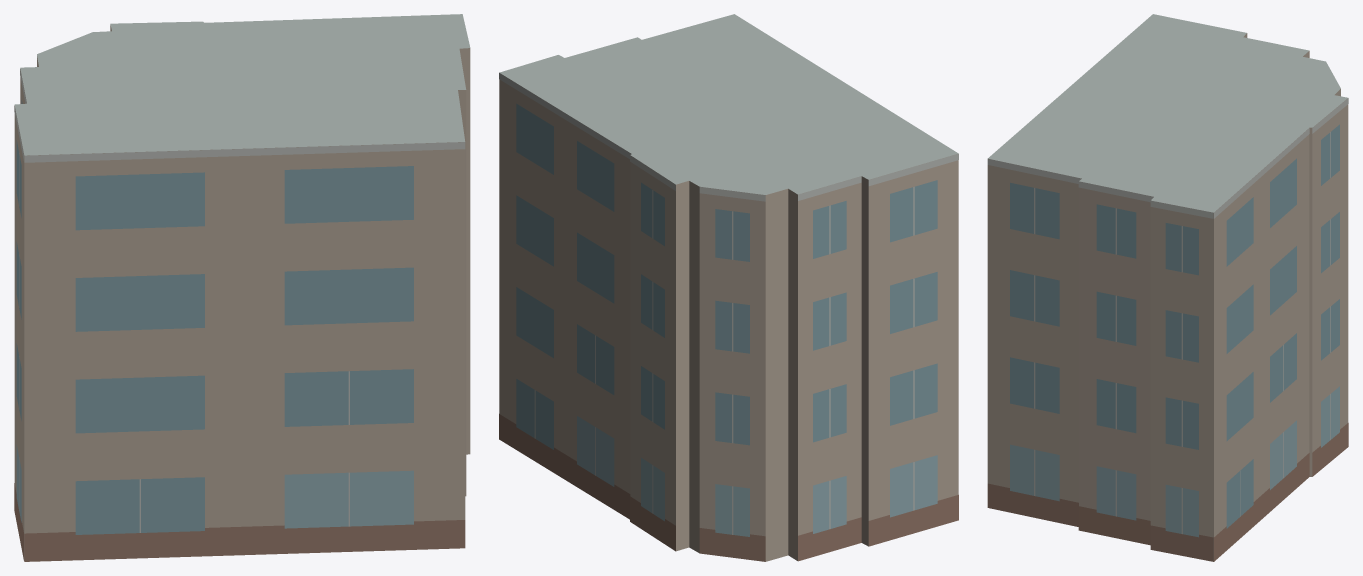
Rendered from survey-upis-32591631.glb.
The picture shows the model from 3 angles, left to right: view 1: azimuth 30°, elevation 25°; view 2: azimuth 150°, elevation 25°; view 3: azimuth 270°, elevation 25°; orthographic projection. The views are drawn at different scales.
Parts seen in each view (by area): view 1: survey-upis-32591631.tmp; view 2: survey-upis-32591631.tmp; view 3: survey-upis-32591631.tmp.
Boxes of the visible parts, box(x1,y1,x2,y2) form: survey-upis-32591631.tmp: box(14, 14, 470, 561); survey-upis-32591631.tmp: box(499, 14, 958, 561); survey-upis-32591631.tmp: box(987, 14, 1348, 561).
Bounding box in the file's own units: 16.65 × 13.64 × 12.78.
